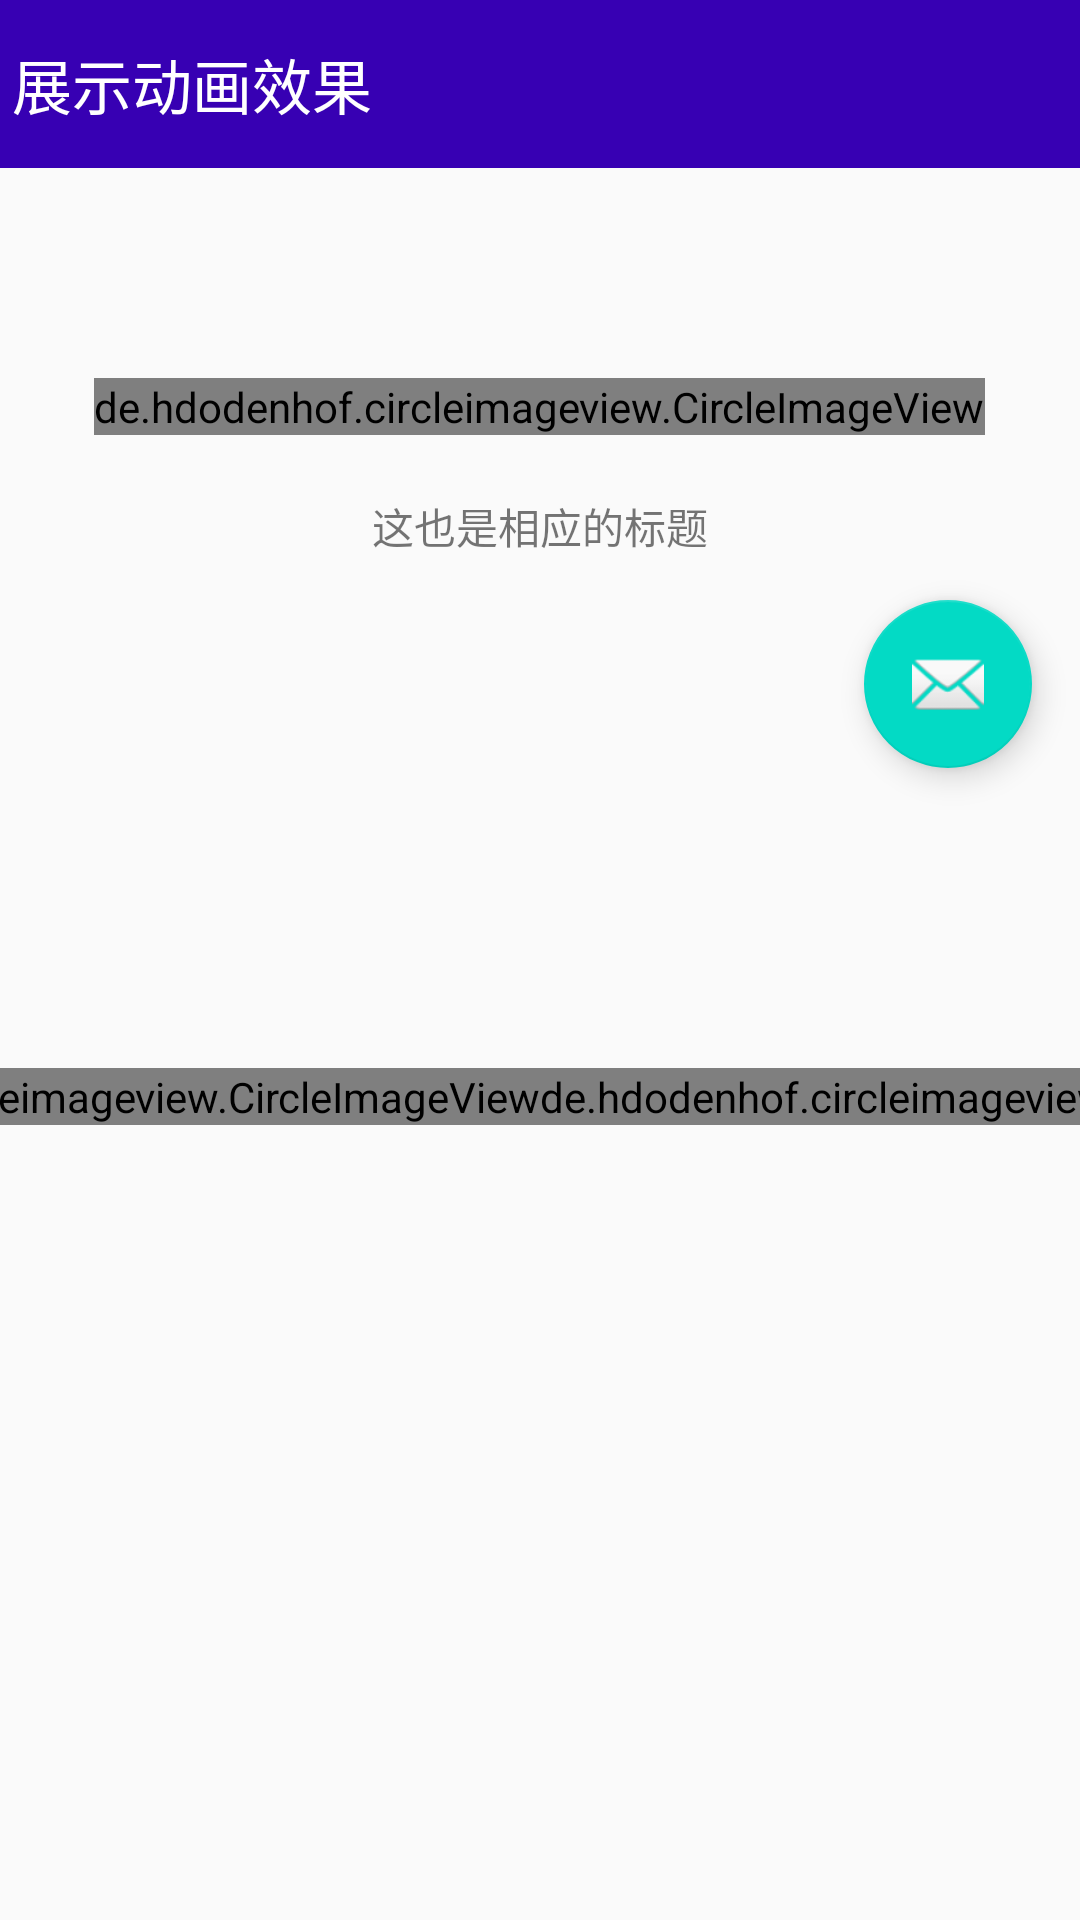

Named icons in this screenshot (1080 x 1920) and their centers, [x,y]:
email: [948,684]
